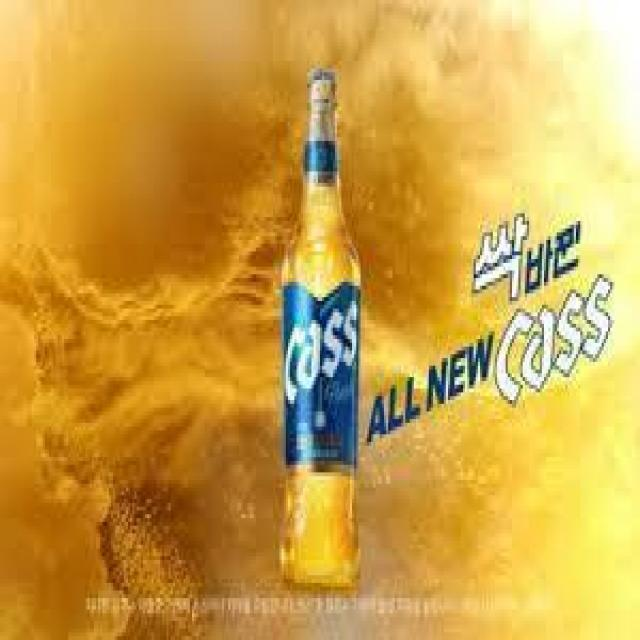beer-bottle: (269, 63, 365, 596)
